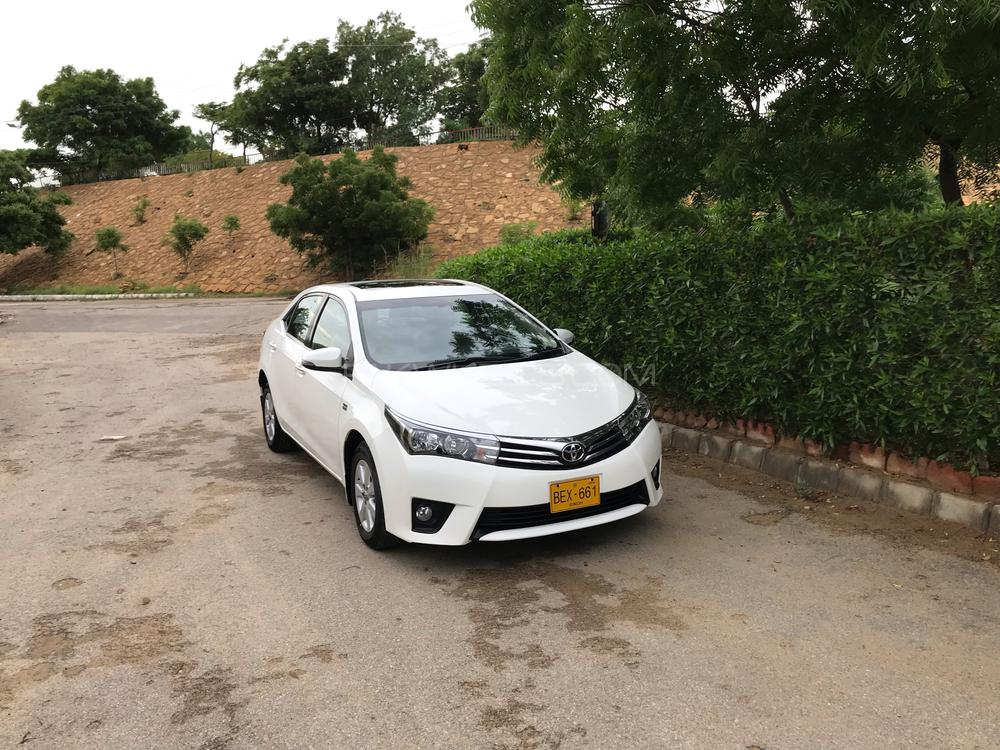license plate: (549, 479, 602, 509)
